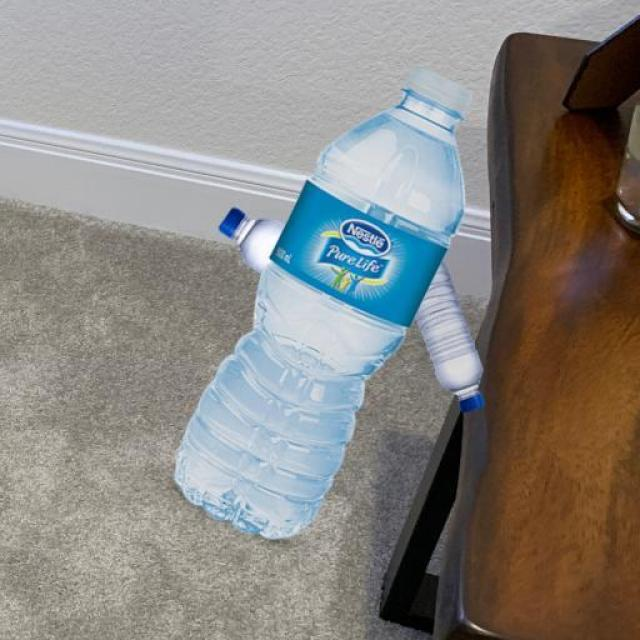bottle: (176, 46, 476, 564)
